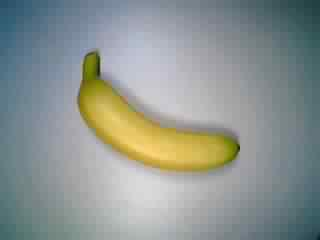banana: (72, 44, 250, 182)
